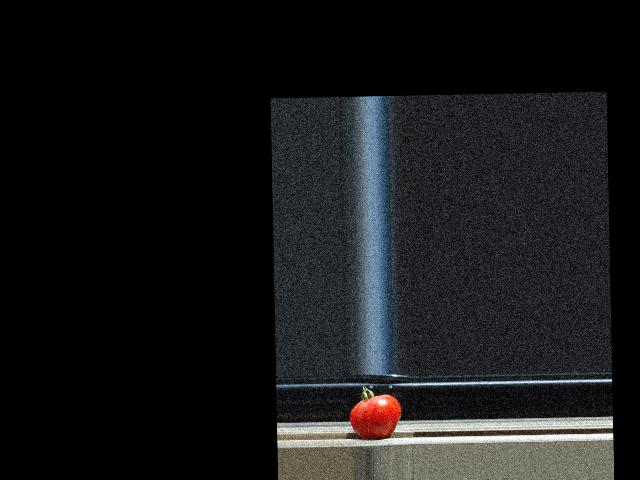tomato: (349, 385, 401, 438)
